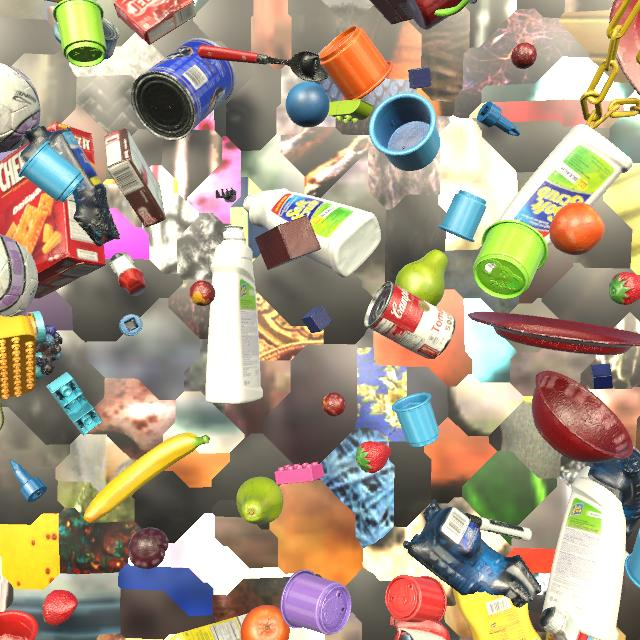ycb_002_master_chef_can: (131, 38, 236, 140)
ycb_003_cracker_box: (0, 122, 106, 299), (370, 0, 413, 25)
ycb_004_sugar_box: (170, 614, 247, 640)
ycb_005_tomato_soup_can: (364, 281, 456, 359)
ycb_006_mustard_bottle: (453, 589, 541, 640), (546, 632, 598, 640)
ycb_007_tuna_fish_can: (53, 17, 120, 60)
ycb_008_pudding_box: (104, 128, 166, 228)
ycb_009_gelatin_box: (114, 0, 197, 45)
ycb_011_banana: (84, 432, 210, 523)
ycb_012_strawberry: (42, 590, 78, 626), (355, 441, 391, 473), (609, 272, 640, 305)
ycb_016_pear: (395, 250, 448, 306), (236, 477, 283, 525)
ycb_017_orange: (549, 202, 605, 255), (240, 605, 290, 640)
ycb_018_plum: (128, 527, 169, 569)
